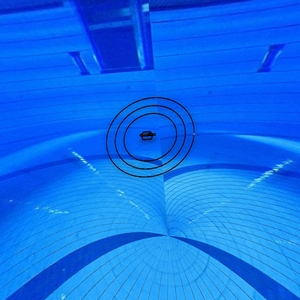circle: (102, 95, 204, 178)
submarine: (138, 126, 158, 145)
